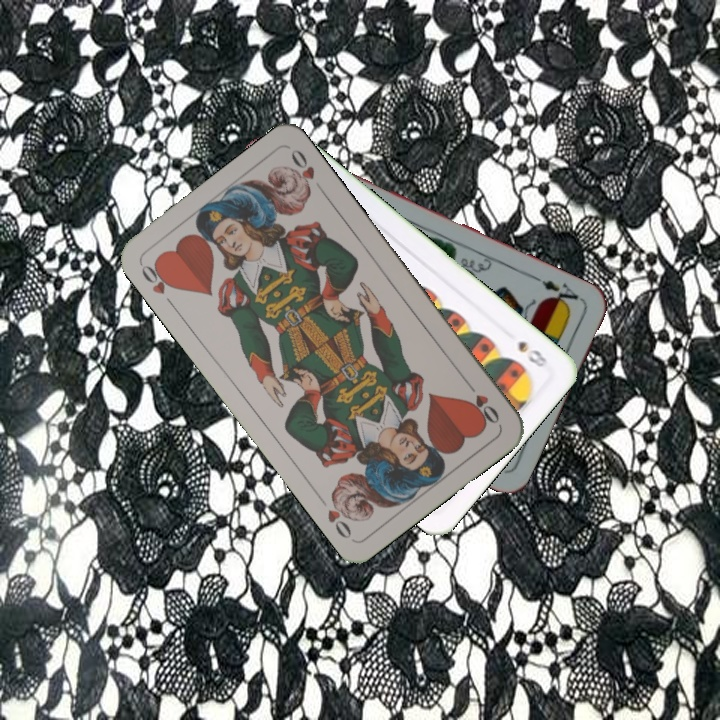EA: (530, 272, 586, 310)
HO: (137, 257, 179, 311), (461, 377, 502, 427)
S8: (514, 336, 550, 370)
